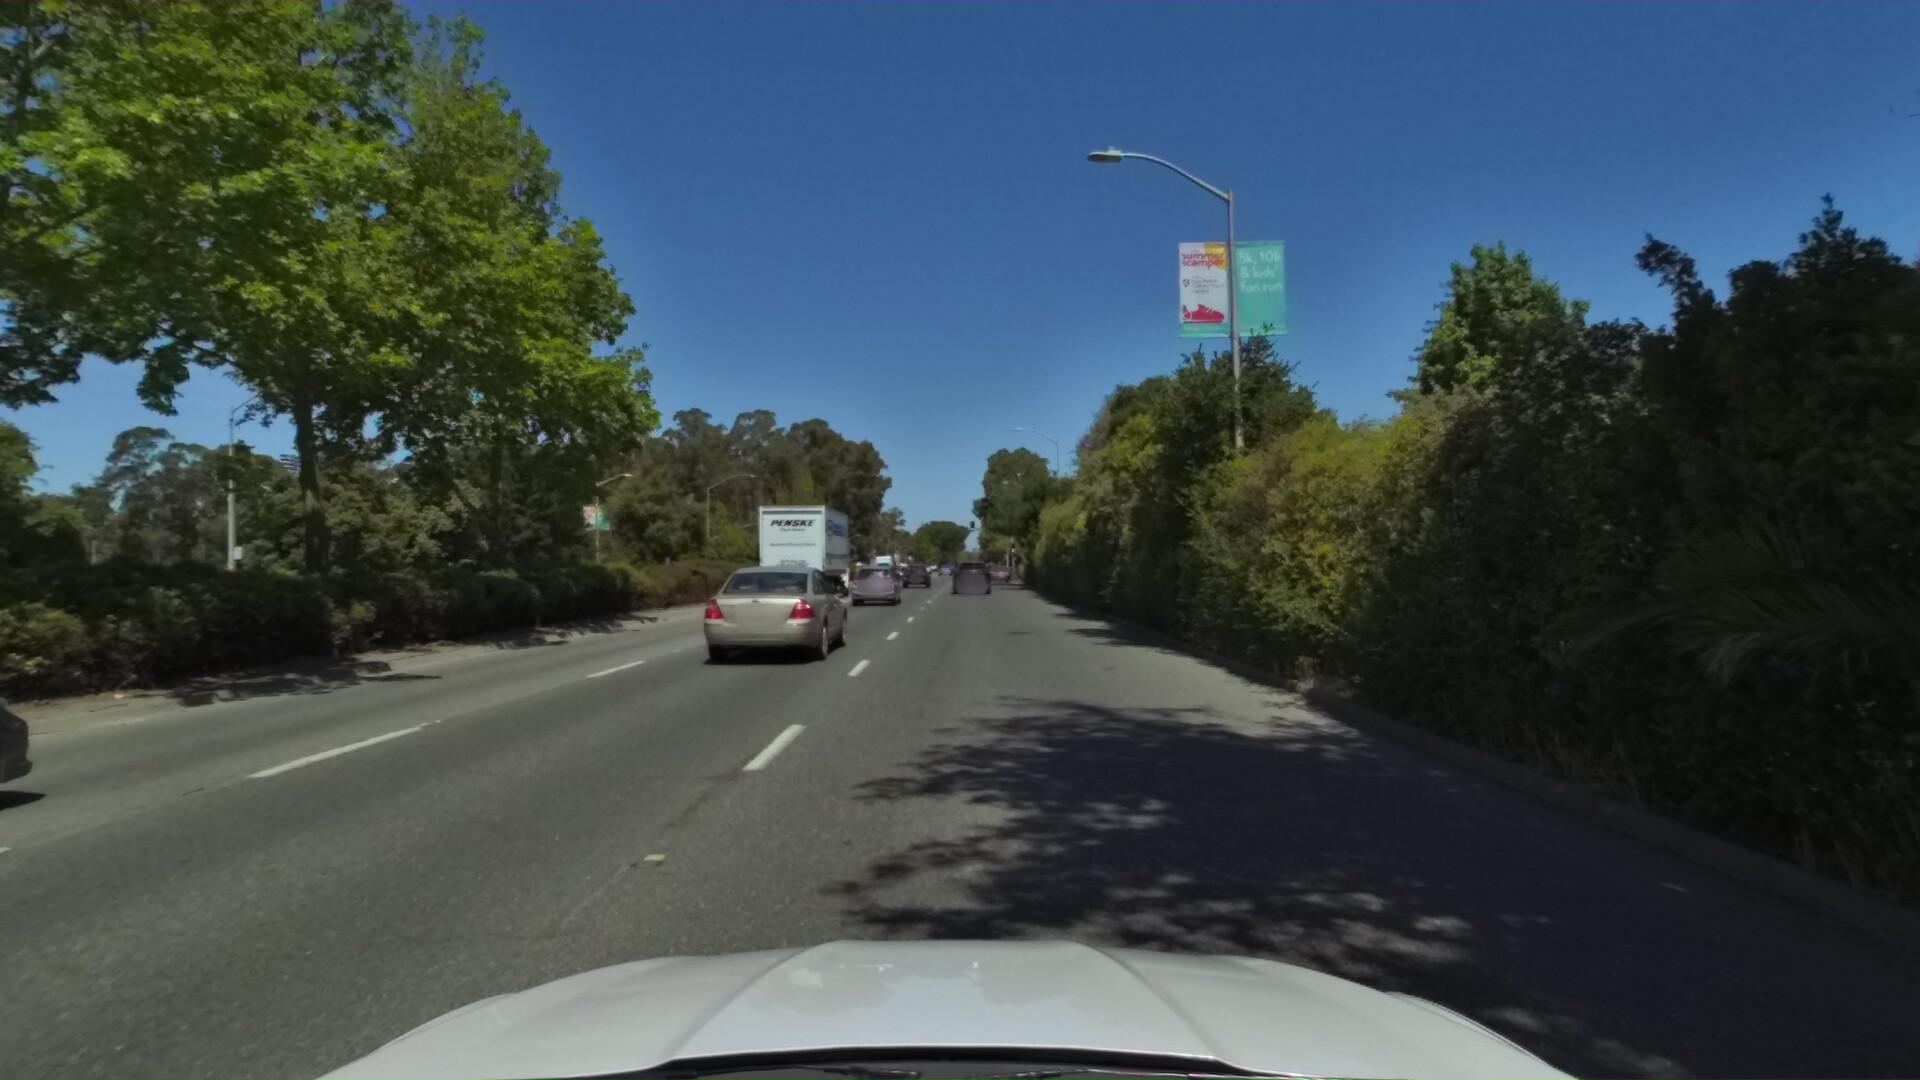car: (691, 560, 856, 674), (845, 562, 903, 607), (945, 555, 992, 596), (895, 558, 932, 588), (986, 556, 1011, 579)
truck: (753, 497, 861, 605)
